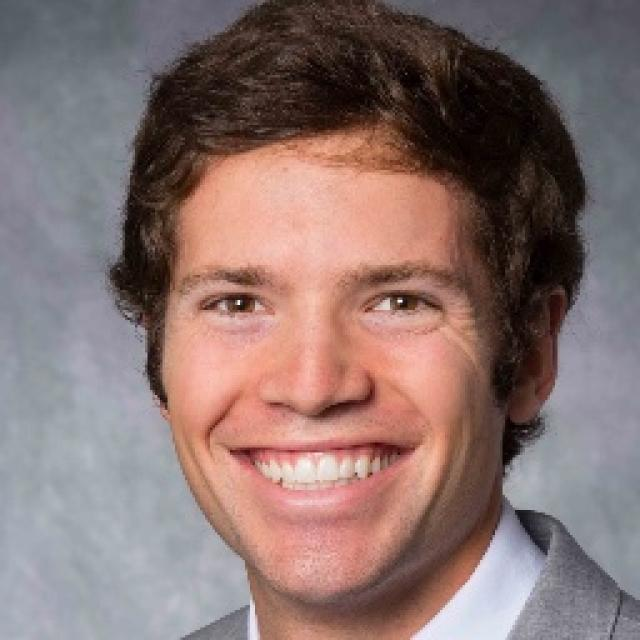earlobe: (504, 281, 570, 426)
